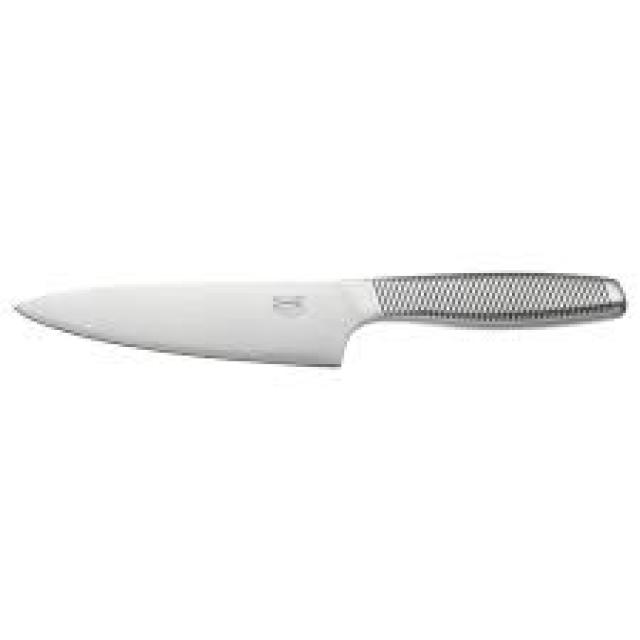knives: (6, 262, 632, 376)
